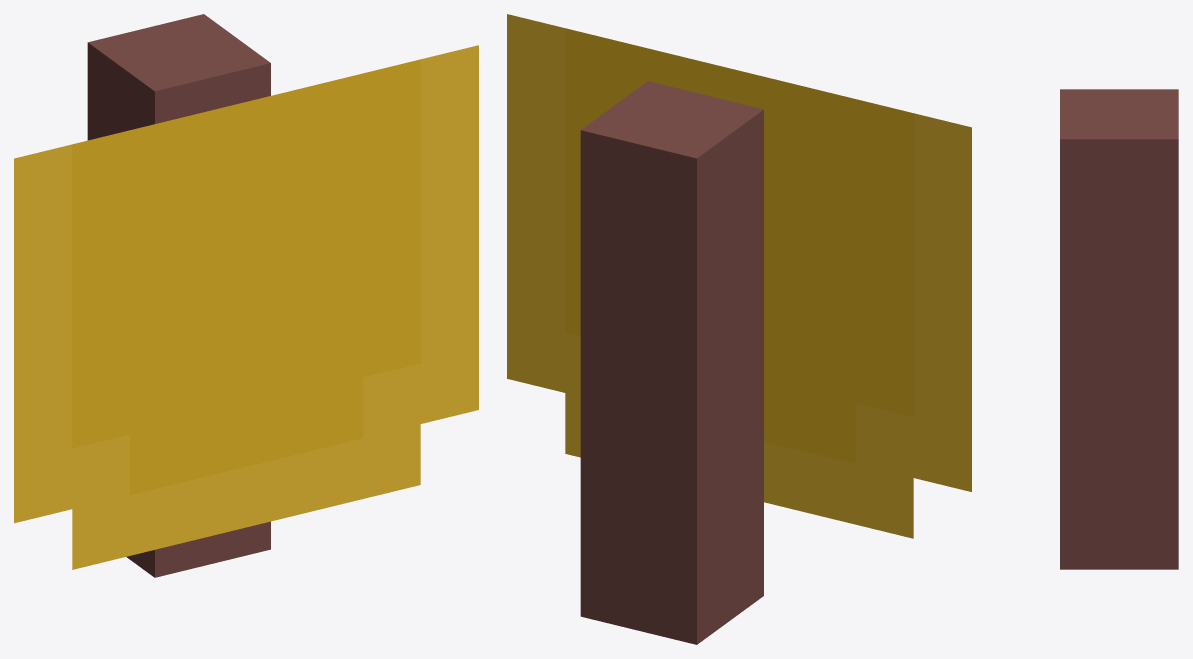
Rendered from Yellow Banner.glb.
3 renders of one model, left to right at view 1: azimuth 30°, elevation 25°; view 2: azimuth 150°, elevation 25°; view 3: azimuth 270°, elevation 25°, orthographic. The views are drawn at different scales.
Visible parts, largest first — view 1: cube; view 2: cube; view 3: cube.
Boxes of the visible parts, x1,y1,x2,y2 form: cube: [14, 14, 478, 577]; cube: [507, 14, 971, 644]; cube: [1060, 89, 1178, 569].
Bounding box in the file's own units: 1 × 1 × 0.3751.
1 material, 1 textured.
